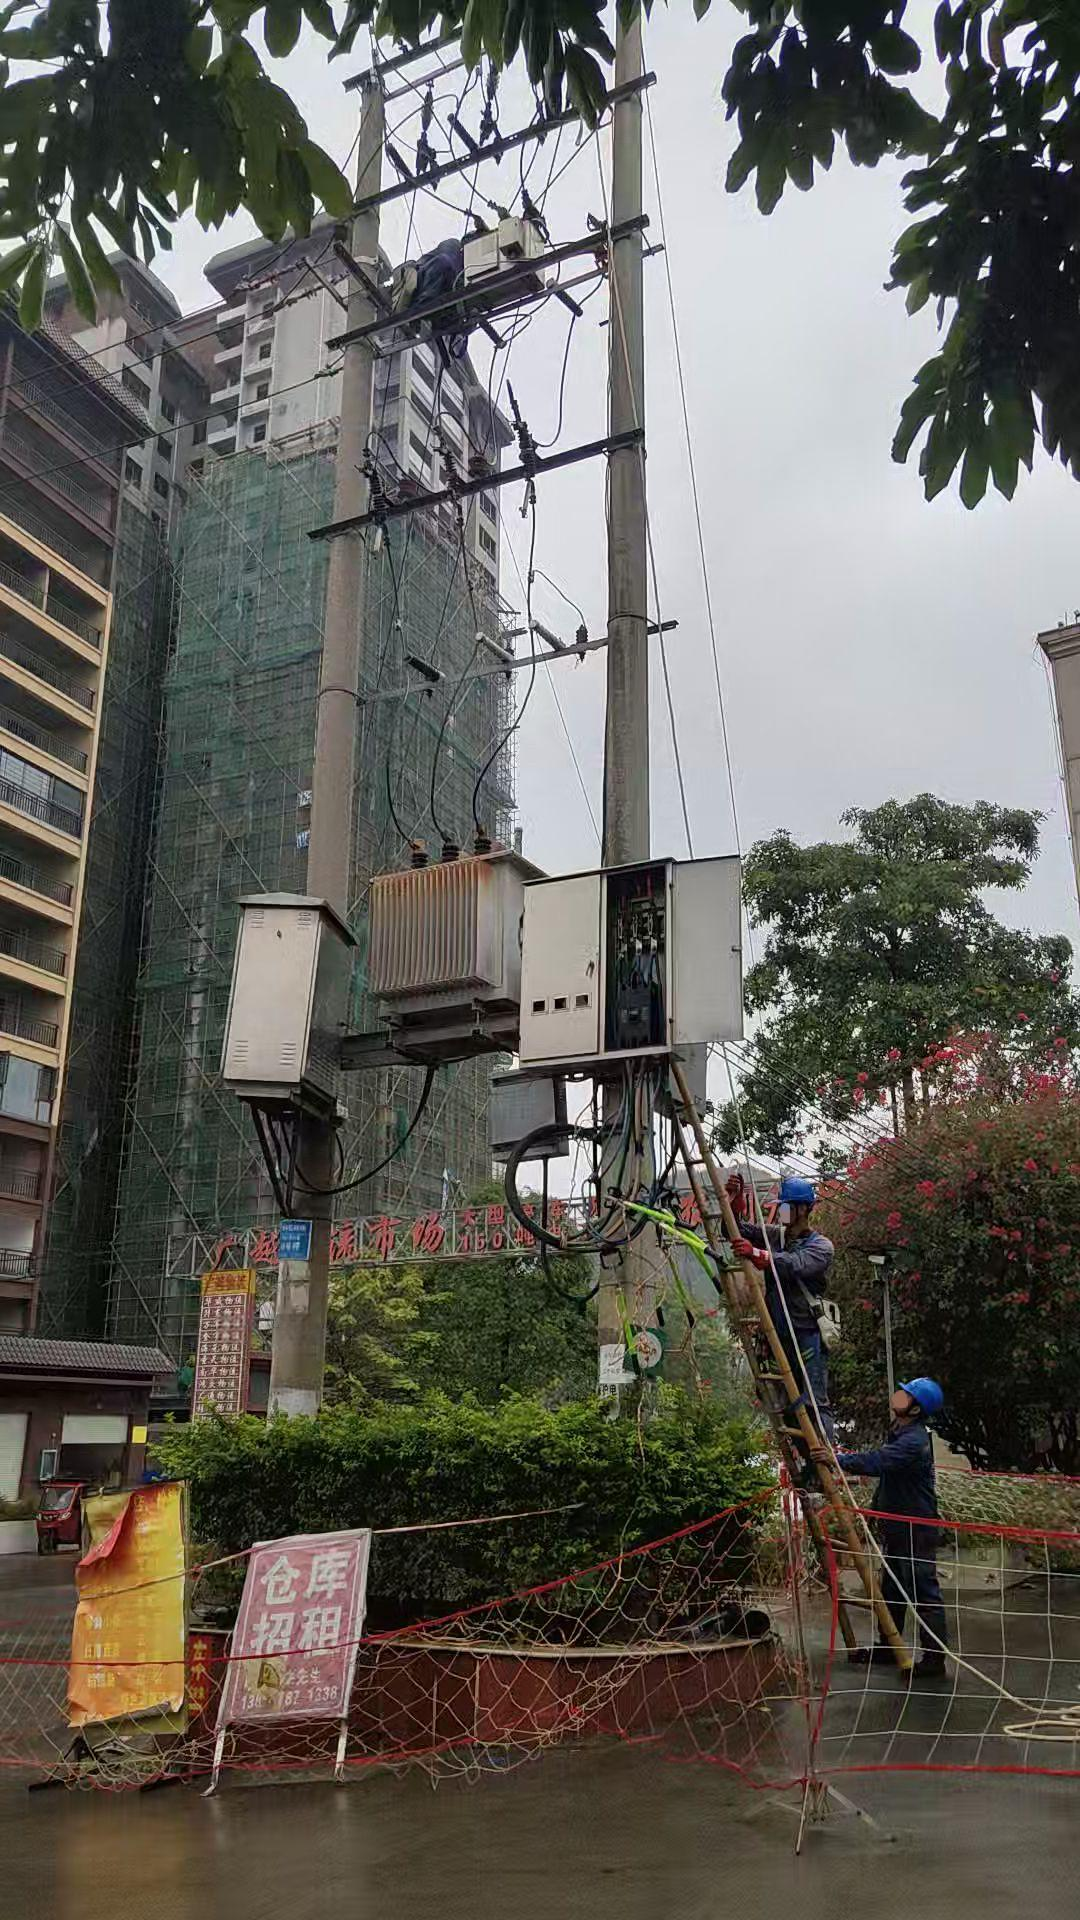halt: (893, 1379, 947, 1425), (778, 1179, 820, 1232)
